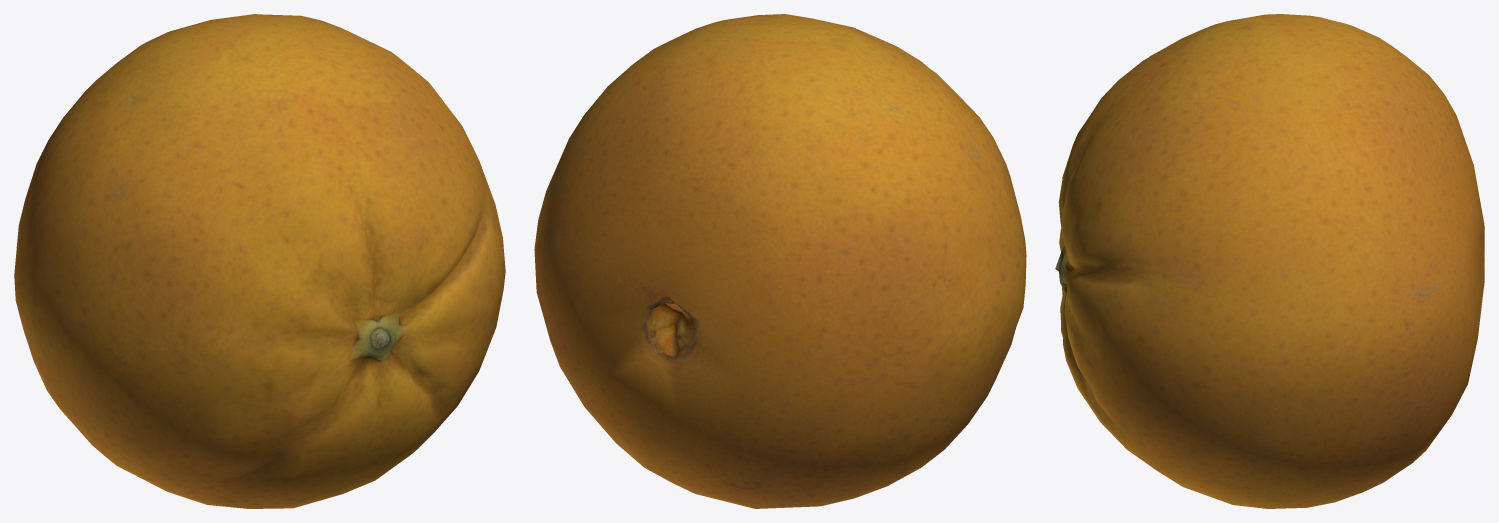
The model's file is orange.glb.
3 renders of one model, left to right at view 1: azimuth 30°, elevation 25°; view 2: azimuth 150°, elevation 25°; view 3: azimuth 270°, elevation 25°, orthographic.
Visible parts, largest first — view 1: Object_2; view 2: Object_2; view 3: Object_2.
Part boxes in pixels (left/top/right/bottom): Object_2: left=14, top=14, right=505, bottom=508; Object_2: left=534, top=14, right=1026, bottom=508; Object_2: left=1055, top=14, right=1484, bottom=508.
Size of the model in its own units: 8.64 by 8.66 by 7.58.
1 material, 1 textured.
